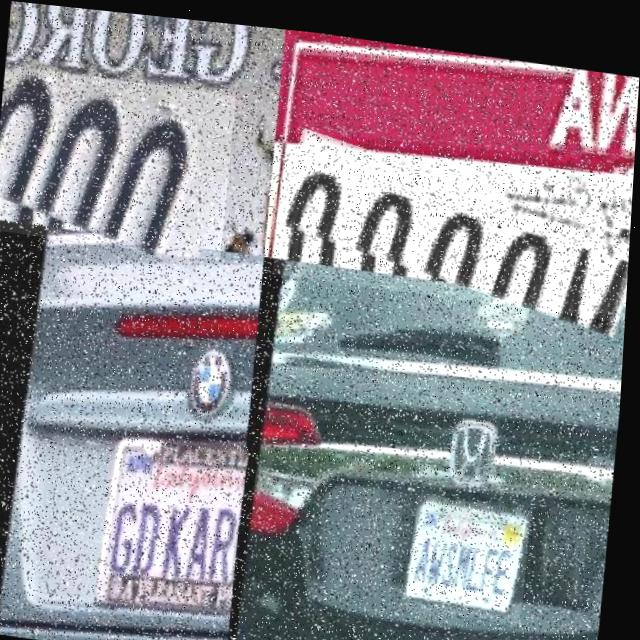LicensePlate: (275, 134, 635, 308), (0, 63, 237, 257), (100, 423, 253, 625), (412, 484, 537, 616)
